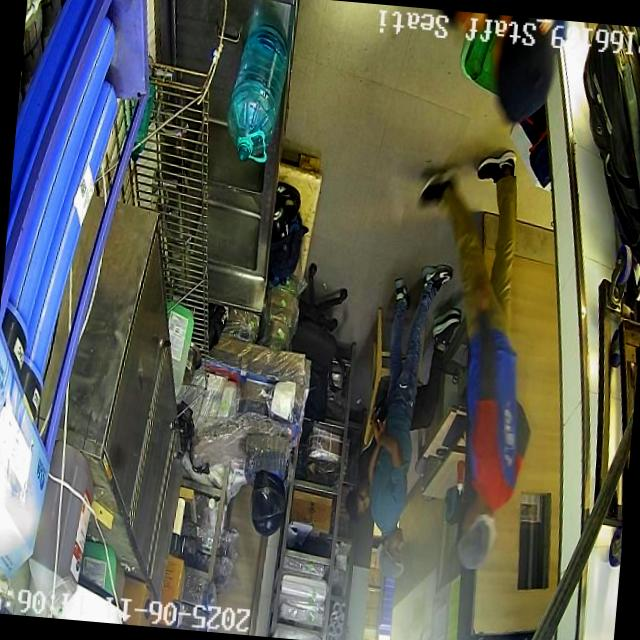helmet: (252, 470, 286, 536)
